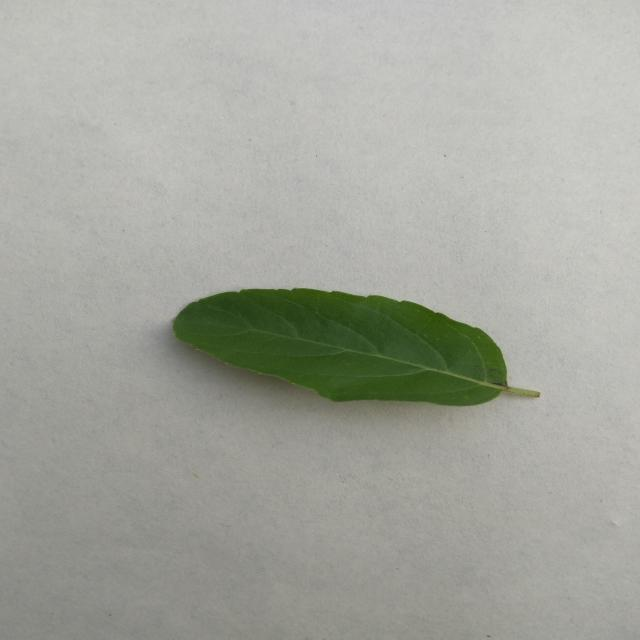tulsi: (173, 289, 540, 406)
